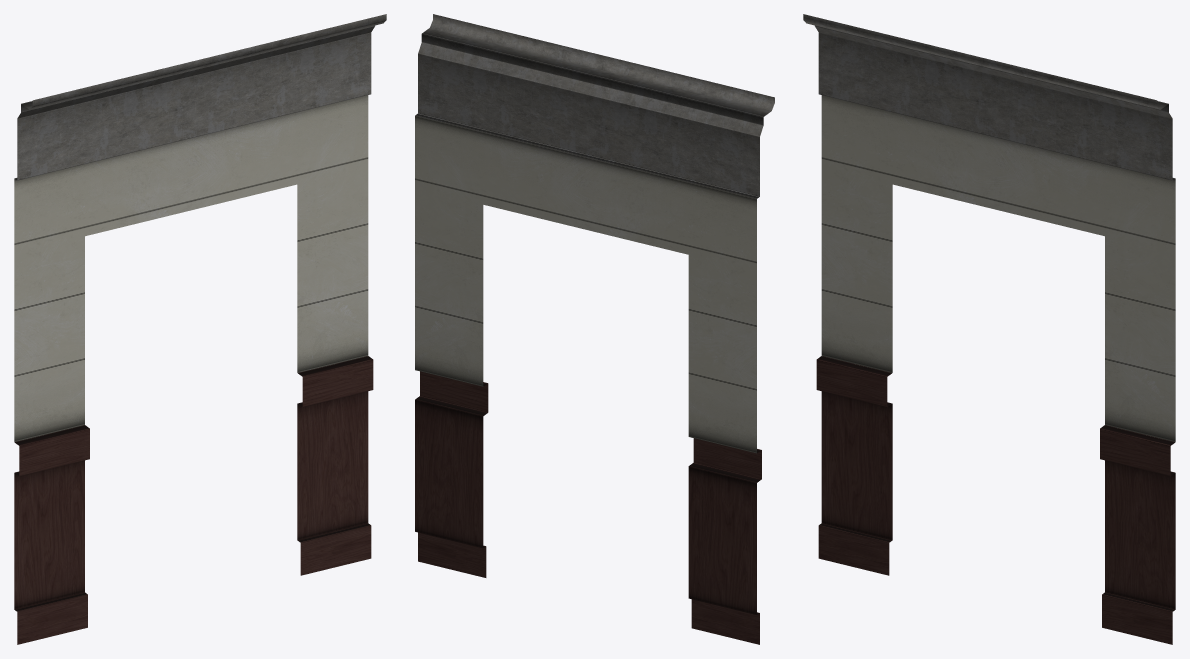
The model's file is Wall 6 Door B.fbx.
The picture shows the model from 3 angles, left to right: view 1: azimuth 30°, elevation 25°; view 2: azimuth 150°, elevation 25°; view 3: azimuth 330°, elevation 25°; orthographic projection. The views are drawn at different scales.
Parts seen in each view (by area): view 1: Wall_6_Door_B; view 2: Wall_6_Door_B; view 3: Wall_6_Door_B.
Boxes of the visible parts, x1,y1,x2,y2 form: Wall_6_Door_B: (14, 14, 386, 644); Wall_6_Door_B: (415, 14, 774, 644); Wall_6_Door_B: (803, 14, 1175, 644).
Bounding box in the file's own units: 200 × 300 × 18.12.
